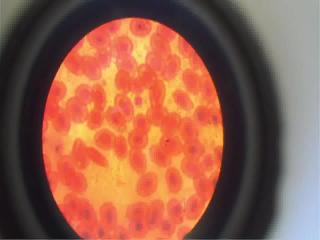cell: (144, 33, 174, 56), (103, 203, 121, 228), (82, 54, 100, 79), (165, 173, 186, 194), (131, 152, 151, 174), (150, 147, 172, 167), (174, 90, 194, 112), (136, 178, 160, 196), (118, 51, 138, 72), (126, 197, 148, 216), (91, 27, 113, 46), (168, 198, 186, 221), (108, 108, 125, 132), (147, 107, 171, 124), (134, 18, 154, 38), (68, 102, 88, 122), (150, 84, 168, 106), (132, 115, 152, 134), (186, 142, 208, 159), (195, 104, 212, 126), (80, 200, 96, 223), (118, 96, 136, 116), (91, 85, 108, 106), (114, 38, 136, 54), (148, 204, 162, 229), (130, 218, 150, 235), (115, 135, 128, 161), (165, 56, 179, 80), (160, 219, 178, 237), (90, 108, 106, 128), (96, 130, 112, 149), (130, 133, 150, 148), (78, 222, 94, 240), (76, 83, 90, 103), (148, 52, 162, 72), (94, 221, 109, 239), (112, 228, 132, 240)
